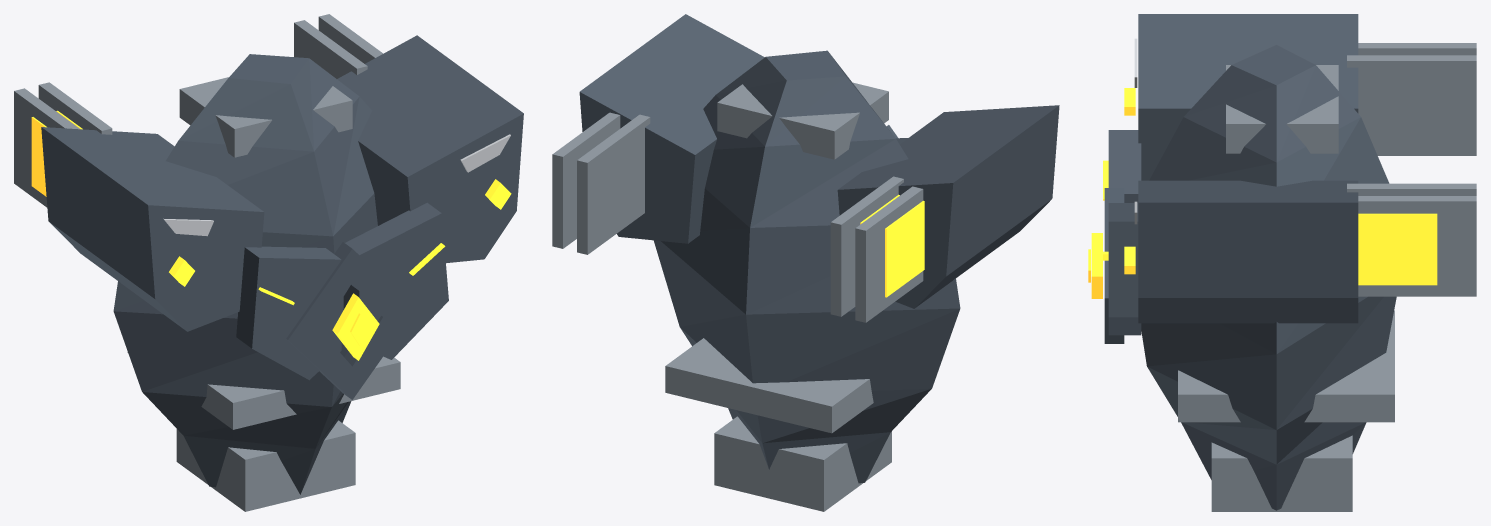
The model's file is BasicTorsoW_Skel.glb.
The picture shows the model from 3 angles, left to right: view 1: azimuth 30°, elevation 25°; view 2: azimuth 150°, elevation 25°; view 3: azimuth 270°, elevation 25°; orthographic projection. The views are drawn at different scales.
Visible parts, largest first — view 1: BasicTorsoW_Skel_part00, BasicTorsoW_Skel_part01; view 2: BasicTorsoW_Skel_part00, BasicTorsoW_Skel_part01; view 3: BasicTorsoW_Skel_part00, BasicTorsoW_Skel_part01.
Boxes of the visible parts, <box> form: BasicTorsoW_Skel_part00: <box>41,35,523,511</box>; BasicTorsoW_Skel_part01: <box>14,14,511,360</box>; BasicTorsoW_Skel_part00: <box>579,14,1059,511</box>; BasicTorsoW_Skel_part01: <box>552,112,924,322</box>; BasicTorsoW_Skel_part00: <box>1104,14,1396,511</box>; BasicTorsoW_Skel_part01: <box>1088,43,1476,298</box>.
Size of the model in its own units: 10.59 by 10.97 by 9.21.
